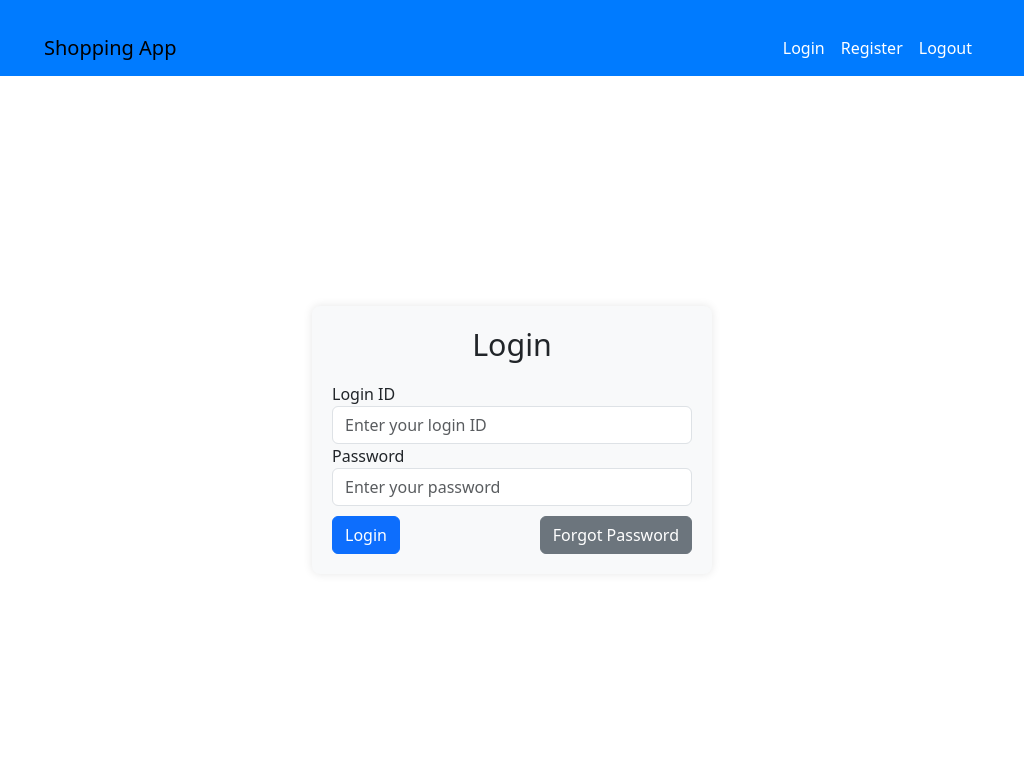
Test: Login Page › should display error when password is empty
Type "testUser" into the field with id "loginId".
click(512, 425); type("testUser")  # box [332,406,692,444]
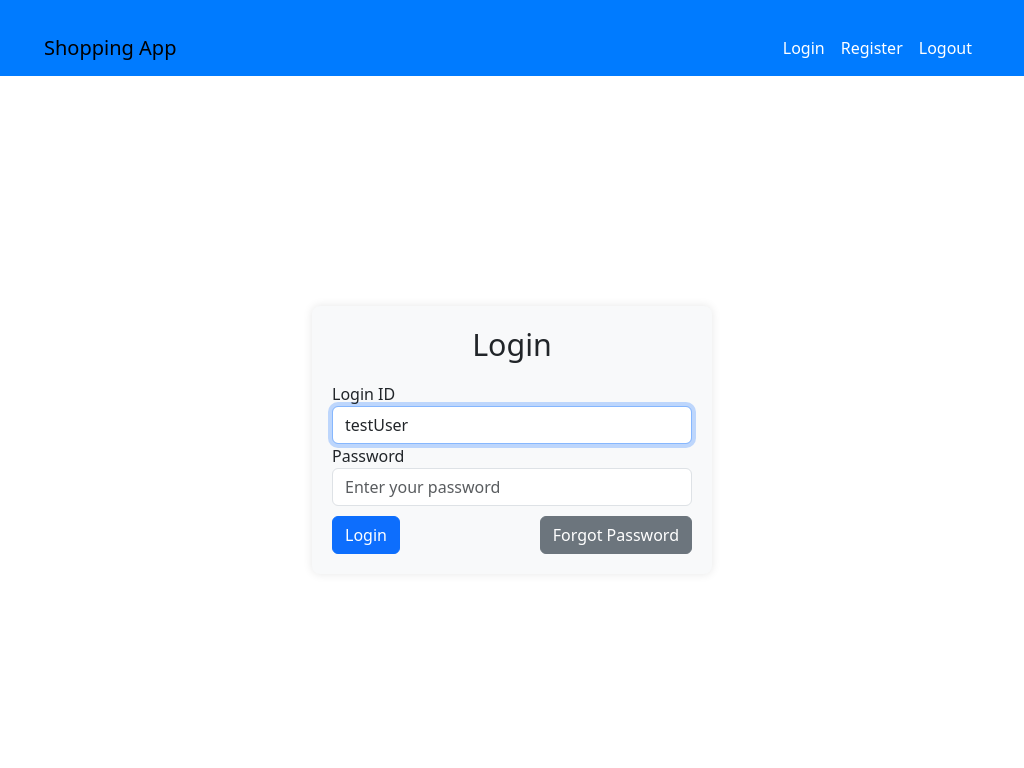
Click the submit button.
click(366, 535)  # box [332,516,400,554]
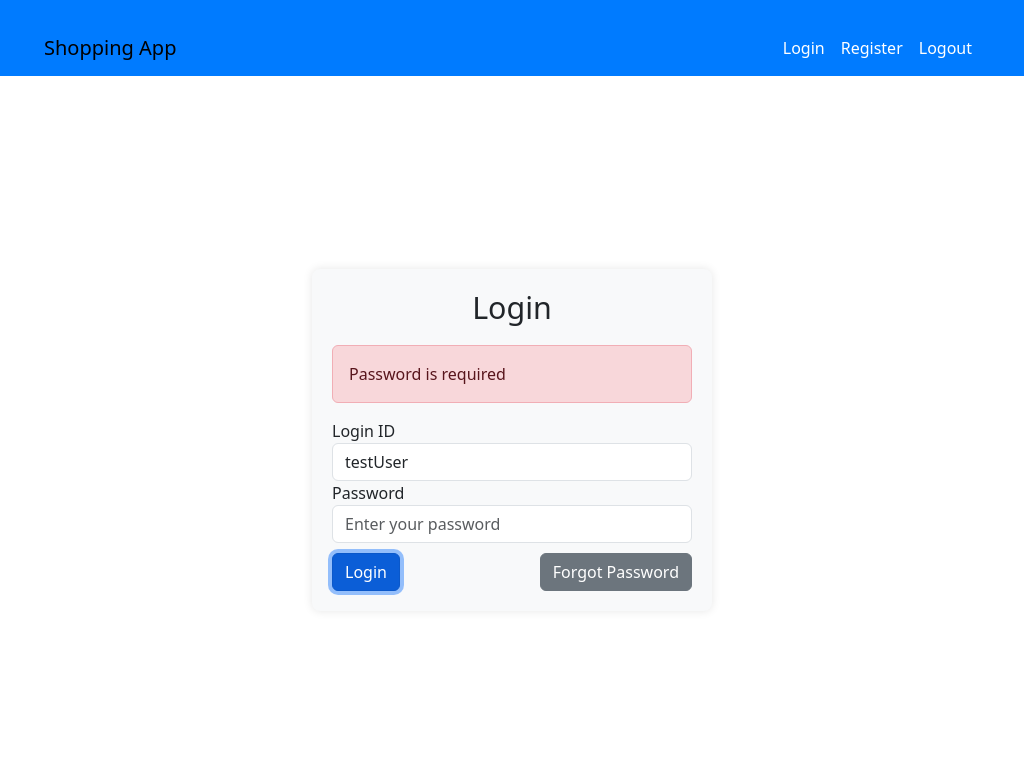
Expected: the text with class "alert-danger" reads "Password is required", [349,363,506,385]
